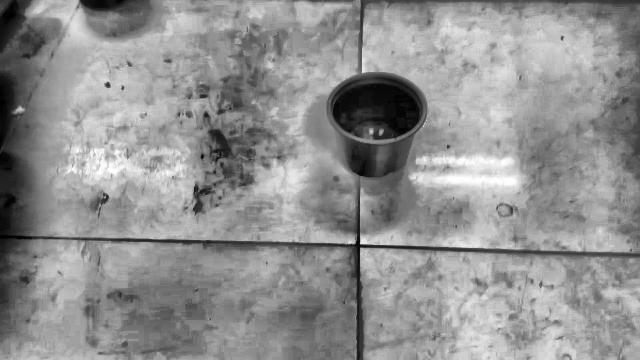pot: (326, 73, 427, 177)
